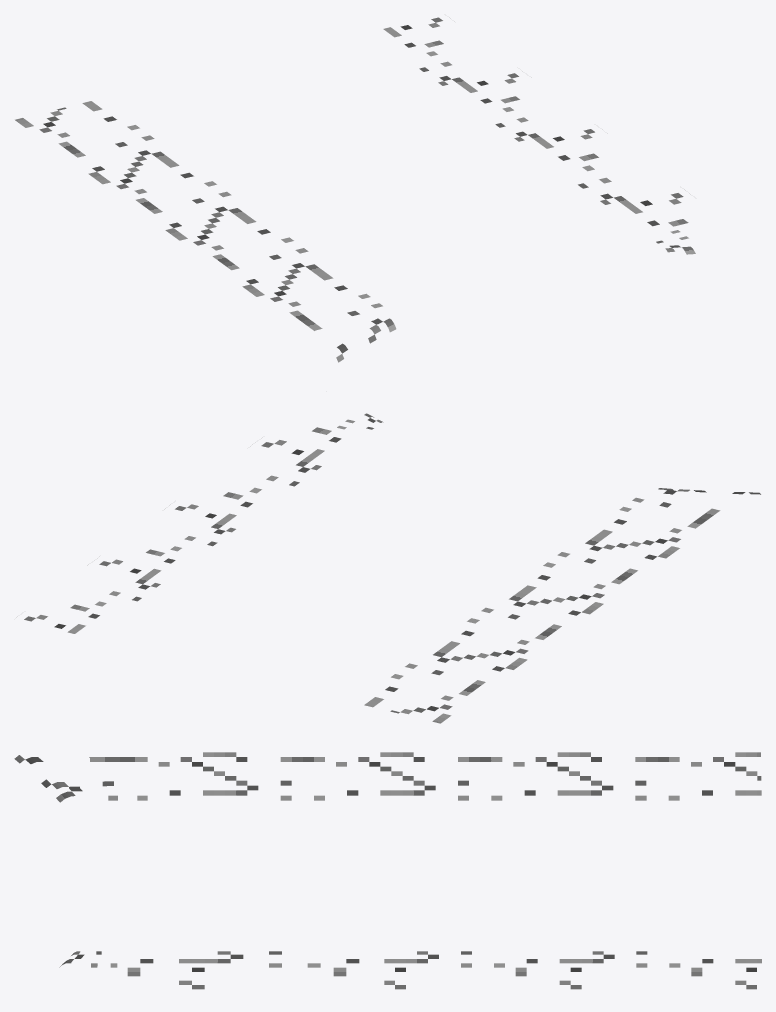
File: vanilla_architecture_whiterun_wreffects_wrstairsstreamrapids01foam-46b7a4a4.glb
The picture shows the model from 3 angles, top to bottom: view 1: azimuth 30°, elevation 25°; view 2: azimuth 150°, elevation 25°; view 3: azimuth 270°, elevation 25°; orthographic projection. The views are drawn at different scales.
Parts seen in each view (by area): view 1: es|WRStairsStreamRapids01Foam:0; view 2: es|WRStairsStreamRapids01Foam:0; view 3: es|WRStairsStreamRapids01Foam:0.
Part boxes in pixels (left/top/right/bottom): es|WRStairsStreamRapids01Foam:0: left=15, top=17, right=695, bottom=362; es|WRStairsStreamRapids01Foam:0: left=16, top=413, right=760, bottom=723; es|WRStairsStreamRapids01Foam:0: left=14, top=752, right=761, bottom=989.
Bounding box in the file's own units: 12.42 × 0.176 × 16.2.
Materials: 1 (1 with a texture image).
